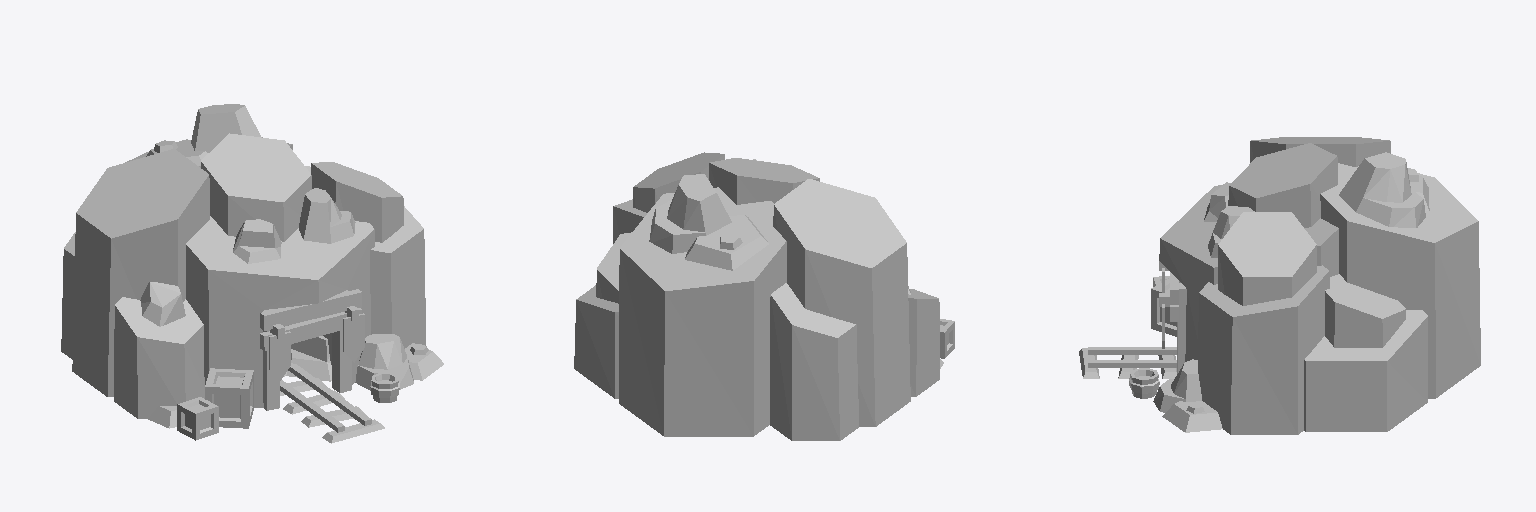
The model's file is building_mine_red.obj.
3 views of the same model, side by side, from view 1: azimuth 30°, elevation 25°; view 2: azimuth 150°, elevation 25°; view 3: azimuth 270°, elevation 25° (orthographic).
Parts seen in each view (by area): view 1: building_mine_red; view 2: building_mine_red; view 3: building_mine_red.
Boxes of the visible parts, x1,y1,x2,y2 form: building_mine_red: [61, 104, 443, 443]; building_mine_red: [574, 152, 954, 440]; building_mine_red: [1079, 137, 1480, 434].
Size of the model in its own units: 1.61 by 1.14 by 1.92.